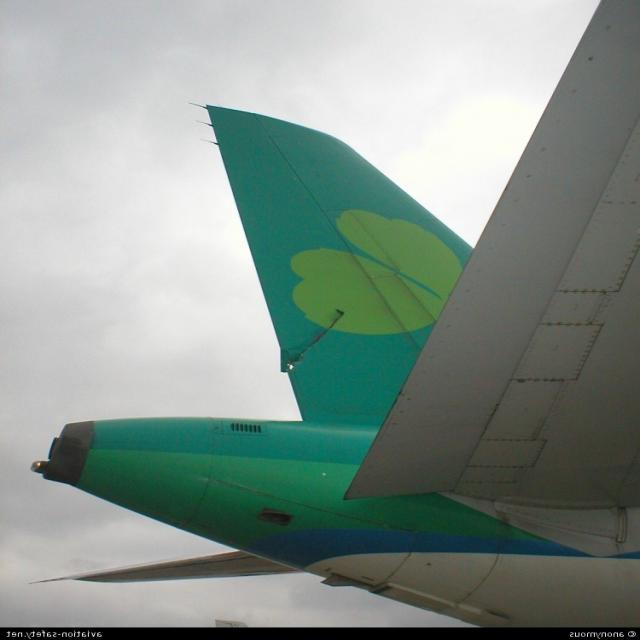crack: (279, 312, 348, 374)
